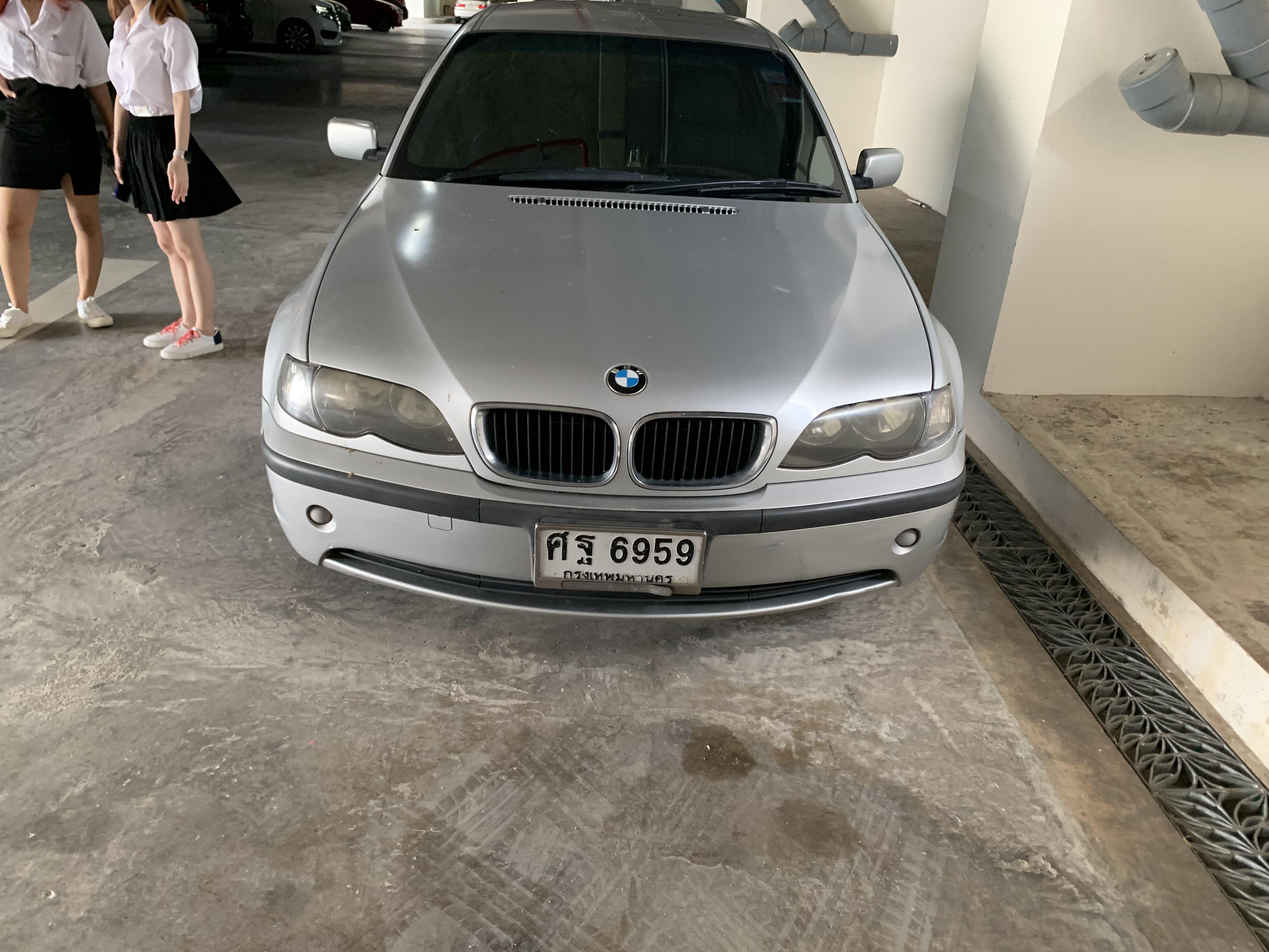license-plate: (529, 519, 711, 602)
